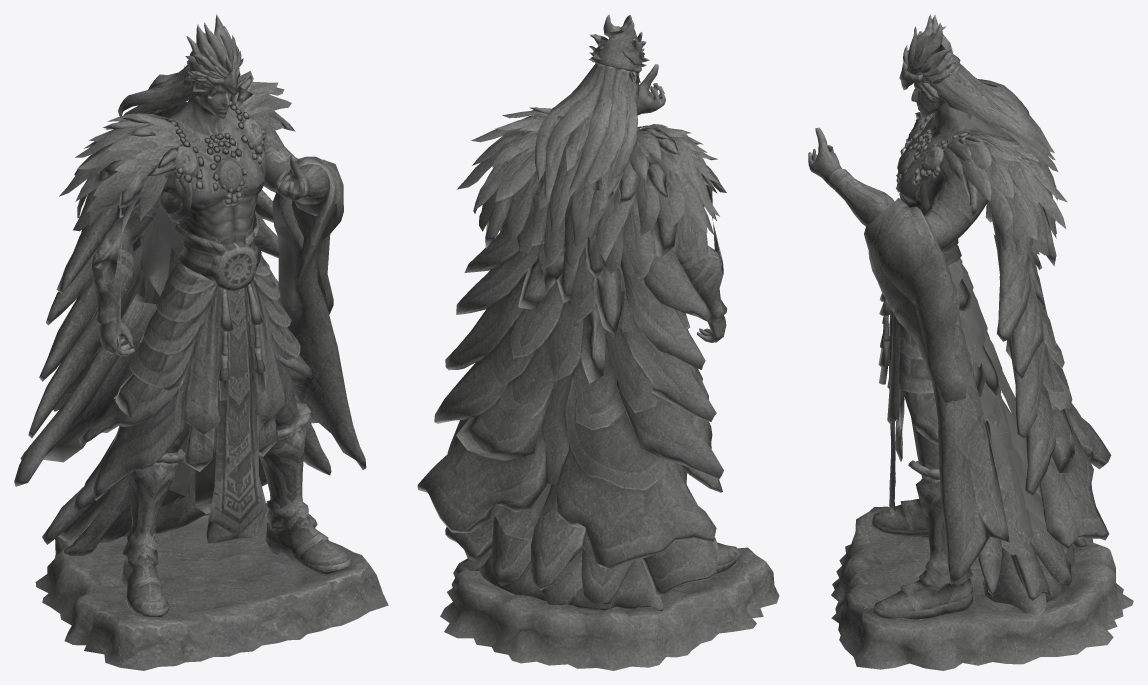
File: Meshy_AI_Feathered_Sovereign_1007024652_texture.fbx
3 views of the same model, side by side, from view 1: azimuth 30°, elevation 25°; view 2: azimuth 150°, elevation 25°; view 3: azimuth 270°, elevation 25° (orthographic). The views are drawn at different scales.
Visible parts, largest first — view 1: Mesh_0; view 2: Mesh_0; view 3: Mesh_0.
Boxes of the visible parts, x1,y1,x2,y2 form: Mesh_0: [14, 14, 388, 670]; Mesh_0: [417, 14, 779, 670]; Mesh_0: [808, 14, 1133, 670].
Bounding box in the file's own units: 54.8 × 100 × 50.64.
1 material, 1 textured.
